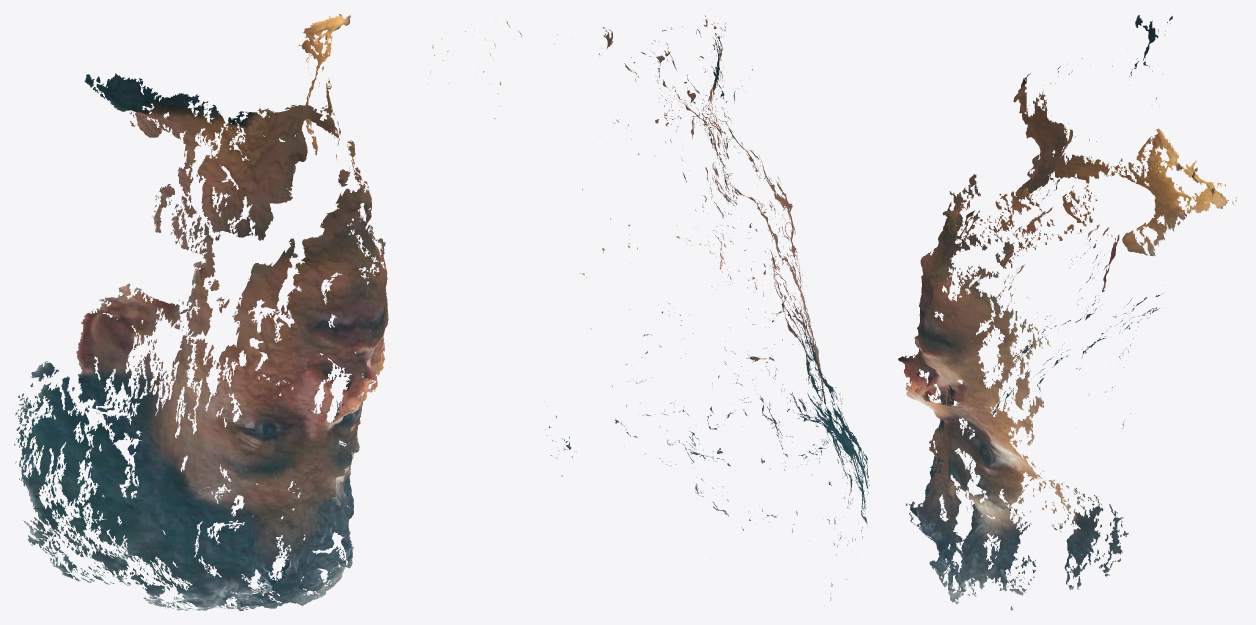
File: odm_textured_model_geo.glb
The picture shows the model from 3 angles, left to right: view 1: azimuth 30°, elevation 25°; view 2: azimuth 150°, elevation 25°; view 3: azimuth 270°, elevation 25°; orthographic projection. The views are drawn at different scales.
Size of the model in its own units: 0.7143 by 0.9717 by 0.554.
19 materials, 19 textured.
